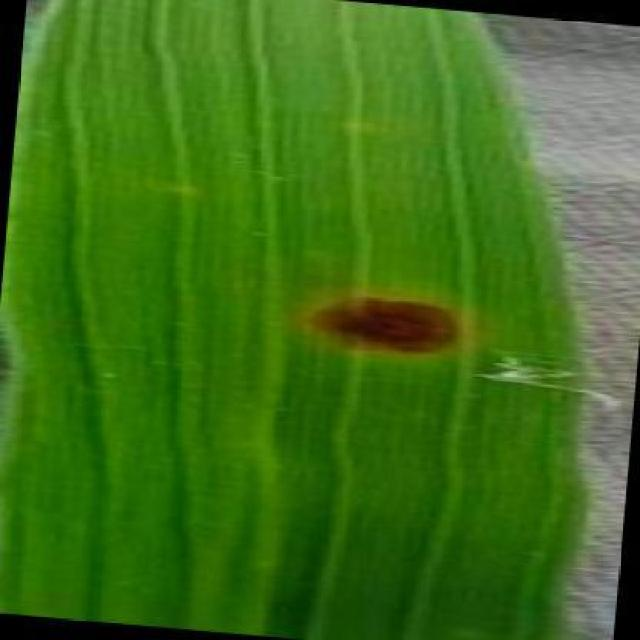Leaf_Blast: (295, 257, 507, 385)
